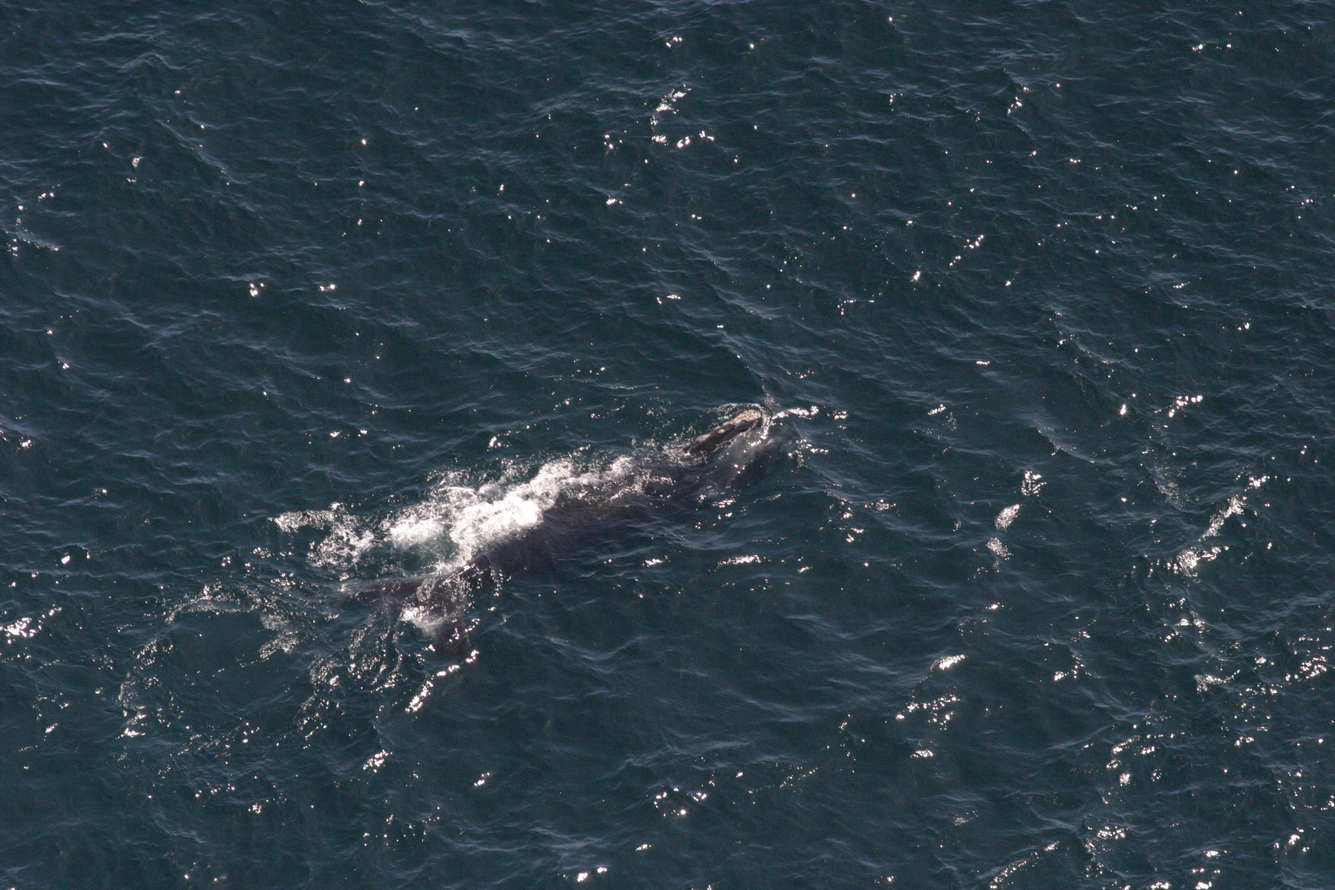whale: (310, 393, 809, 683)
